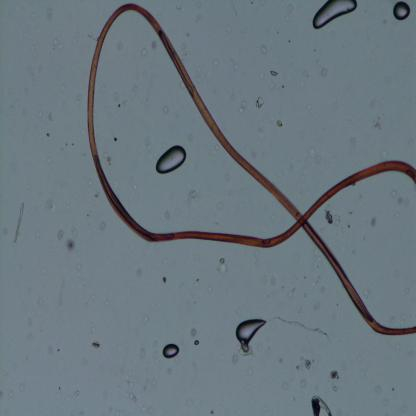Air bubble: (309, 0, 360, 29), (234, 318, 270, 354), (154, 145, 188, 178), (392, 0, 411, 21), (162, 342, 181, 360)
Background material: (14, 202, 25, 247), (308, 142, 326, 166), (186, 187, 202, 207), (75, 262, 87, 288), (218, 251, 230, 276), (192, 70, 208, 88), (262, 273, 280, 288), (316, 58, 329, 78), (124, 390, 142, 404), (225, 0, 239, 18), (296, 68, 309, 86), (373, 114, 384, 132), (66, 235, 77, 253), (313, 276, 325, 292), (100, 149, 111, 165), (181, 40, 191, 57), (150, 348, 160, 365), (257, 42, 271, 54), (214, 198, 226, 212), (90, 338, 102, 352), (46, 196, 56, 212), (369, 214, 378, 231), (330, 367, 340, 382), (275, 115, 285, 130), (254, 96, 266, 108), (238, 96, 247, 112), (126, 371, 135, 387), (0, 388, 13, 399), (224, 88, 234, 102), (44, 344, 54, 358), (325, 210, 335, 224), (138, 405, 152, 415), (37, 296, 47, 310), (334, 210, 343, 225), (286, 287, 298, 298), (160, 207, 172, 218), (127, 181, 138, 193), (389, 185, 399, 198), (54, 386, 64, 399), (56, 228, 66, 241), (304, 357, 312, 373), (112, 85, 121, 99), (328, 384, 342, 393), (230, 350, 239, 364), (369, 98, 379, 110), (281, 11, 293, 21), (54, 39, 64, 51), (365, 286, 374, 299), (207, 403, 216, 416), (286, 1, 296, 12), (270, 68, 280, 79), (388, 315, 399, 325), (350, 139, 360, 150), (223, 22, 232, 34), (76, 90, 82, 108), (68, 224, 77, 236), (298, 378, 308, 388), (232, 61, 240, 73), (160, 103, 168, 115), (244, 379, 252, 391), (375, 383, 382, 396), (398, 196, 408, 205), (187, 131, 195, 142), (98, 220, 106, 231), (46, 8, 53, 20), (16, 383, 26, 391), (356, 353, 366, 361), (193, 338, 203, 346), (281, 380, 289, 390), (139, 349, 147, 359), (141, 47, 147, 60), (46, 108, 52, 121), (36, 108, 43, 119), (150, 299, 157, 310), (190, 327, 198, 336), (26, 316, 32, 328), (212, 145, 220, 154), (102, 298, 110, 306), (278, 355, 286, 363), (118, 43, 125, 52), (72, 390, 81, 397), (112, 132, 117, 144), (407, 137, 413, 147), (45, 156, 53, 163), (184, 31, 191, 39), (245, 366, 252, 374), (151, 40, 156, 51), (213, 57, 218, 68), (382, 152, 391, 158), (294, 362, 300, 371), (383, 397, 389, 406), (207, 282, 212, 292), (4, 226, 9, 236), (176, 206, 181, 216), (143, 314, 148, 324), (35, 230, 40, 240), (389, 386, 396, 393), (135, 268, 142, 275), (161, 277, 168, 284), (88, 180, 94, 188), (46, 130, 51, 139), (194, 0, 201, 6), (96, 191, 102, 198), (151, 378, 156, 386), (381, 19, 387, 25), (354, 249, 358, 258), (280, 285, 284, 293), (86, 210, 90, 218), (142, 385, 145, 393), (48, 247, 52, 253), (4, 372, 8, 378), (348, 223, 352, 228), (177, 6, 181, 11), (288, 39, 292, 43), (43, 269, 46, 274), (70, 143, 74, 146), (281, 83, 283, 88)
Cellulose filter fibre: (269, 307, 330, 342), (310, 394, 332, 415)
Microfibre: (87, 2, 416, 336)
